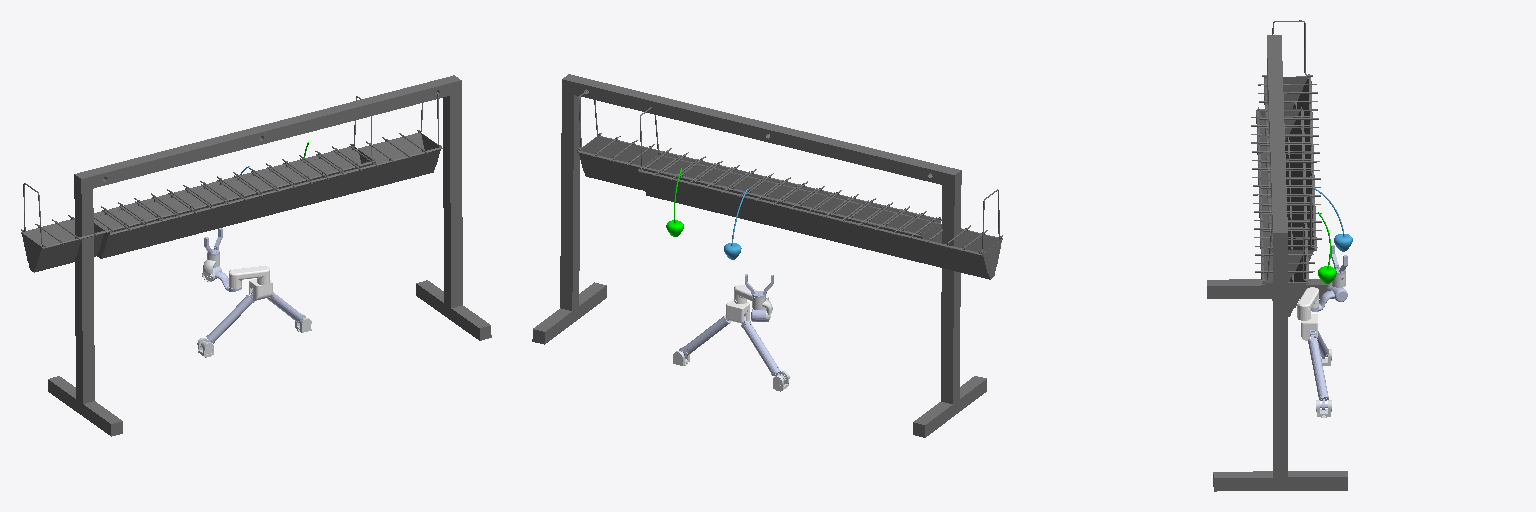
--- Render facts (derived) ---
Views: 3 orthographic renders of the robot side by side, from view 1: azimuth 30°, elevation 25°; view 2: azimuth 150°, elevation 25°; view 3: azimuth 270°, elevation 25°.
Robot: arm12 — 29 links, 28 joints (16 revolute, 6 continuous, 2 prismatic, 4 fixed); root link rotated_base; default pose: every joint at zero.
Links seen in each view (by area): view 1: left_holder, pot, l6, l3; view 2: left_holder, pot, l3, l11; view 3: left_holder, pot, l11, l6.
Boxes of the visible links, <box> form: left_holder: <box>48,75,491,436</box>; pot: <box>21,96,375,272</box>; l6: <box>229,266,269,288</box>; l3: <box>202,290,254,347</box>; left_holder: <box>532,74,986,437</box>; pot: <box>638,107,1002,279</box>; l3: <box>741,315,784,380</box>; l11: <box>681,315,731,355</box>; left_holder: <box>1207,35,1347,491</box>; pot: <box>1258,20,1321,281</box>; l11: <box>1308,330,1328,409</box>; l6: <box>1297,287,1318,320</box>.
Bounding box of the posed robot: 2.67 × 0.731 × 1.44 m (x, y, z).
13 mesh visuals loaded from 18 distinct referenced files (11 binary STL, 2 ASCII STL); not drawn: 5 (reference not matched to a file when rendering).

robot.urdf — arm12:
<?xml version="1.0" ?>
<!-- =================================================================================== -->
<!-- |    This document was autogenerated by xacro from src/arm12/urdf/arm12.urdf.xacro | -->
<!-- |    EDITING THIS FILE BY HAND IS NOT RECOMMENDED                                 | -->
<!-- =================================================================================== -->
<robot name="arm12">
  <!-- <robot
  name="straw"> -->
  <material name="gray">
    <color rgba="0.5 0.5 0.5 1.0"/>
  </material>
  <material name="green">
    <color rgba="0. 1 0. 1.0"/>
  </material>

  <link name="straw_base_link">
    <inertial>
      <origin rpy="0 0 0" xyz="0.72536 -2.6077 -1.278"/>
      <mass value="83.793"/>
      <inertia ixx="49.037" ixy="12.983" ixz="-0.85625" iyy="197.29" iyz="0.10604" izz="153.05"/>
    </inertial>
    <!-- <visual>
      <origin rpy="0 0 0" xyz="0 0 0"/>
      <geometry>
        <mesh filename="package://straw/meshes/straw_base_link.STL" scale="0.75 0.75 0.75"/>
      </geometry>
      <material name="gray"/>
    </visual> -->
    <collision>
      <origin rpy="0 0 0" xyz="0 0 0"/>
      <geometry>
        <mesh filename="package://straw/meshes/straw_base_link.STL"  scale="0.75 0.75 0.75"/>
      </geometry>
    </collision>
  </link>
  <link name="left_holder">
    <inertial>
      <origin rpy="0 0 0" xyz="0.068289 -1.3911 0.41242"/>
      <mass value="90.637"/>
      <inertia ixx="203.28" ixy="-5.2628E-06" ixz="-4.6215E-05" iyy="48.292" iyz="5.4272" izz="157.67"/>
    </inertial>
    <visual>
      <origin rpy="0 0 0" xyz="0 0 0"/>
      <geometry>
        <mesh filename="package://straw/meshes/left_holder.STL"  scale="0.75 0.75 0.75"/>
      </geometry>
      <material name="gray"/>
    </visual>
    <!-- <collision>
      <origin rpy="0 0 0" xyz="0 0 0"/>
      <geometry>
        <mesh filename="package://straw/meshes/left_holder.STL"  scale="0.75 0.75 0.75"/>
      </geometry>
    </collision> -->
  </link>
  <joint name="lh1" type="fixed">
    <!-- <origin rpy="-3.1003 -0.0006971 1.4841" xyz="0 0 0"/> -->
    <origin rpy="-3.1003 -0.0006971 1.4841" xyz="2.1219 -2.7952 -0.90577"/>
    <parent link="straw_base_link"/>
    <child link="left_holder"/>
    <axis xyz="0 0 0"/>
  </joint>
  <link name="pot">
    <inertial>
      <origin rpy="0 0 0" xyz="0.0723 -0.11104 1.4288"/>
      <mass value="7.0989"/>
      <inertia ixx="4.8702" ixy="1.4633E-05" ixz="-1.887E-06" iyy="4.8836" iyz="0.044366" izz="0.12976"/>
    </inertial>
    <visual>
      <origin rpy="0 0 0" xyz="0 0 0.4"/>
      <geometry>
        <mesh filename="package://straw/meshes/pot.STL"  scale="0.75 0.75 0.75"/>
      </geometry>
      <material name="gray"/>
    </visual>
    <collision>
      <origin rpy="0 0 0" xyz="0 0 0"/>
      <geometry>
        <mesh filename="package://straw/meshes/pot.STL"  scale="0.75 0.75 0.75"/>
      </geometry>
    </collision>
  </link>
  <joint name="lf_pot" type="fixed">
    <origin rpy="-1.5306 0 -3.1416" xyz="0.17343 0.013392 0.017884"/>
    <parent link="left_holder"/>
    <child link="pot"/>
    <axis xyz="0 0 0"/>
  </joint>
  <link name="stem1">
    <inertial>
      <origin rpy="0 0 0" xyz="0.31086 0.3 0.00026615"/>
      <mass value="1.1291"/>
      <inertia ixx="0.0022005" ixy="0.00034925" ixz="-8.6306E-07" iyy="0.002305" iyz="3.3465E-06" izz="0.0025724"/>
    </inertial>
    <visual>
      <origin rpy="0 0 0" xyz="0 0 0.5"/>
      <geometry>
        <mesh filename="package://straw/meshes/stem1.STL" scale="0.7 0.7 0.7"/>
      </geometry>
      <material name="green"/>
    </visual>
    <collision>
      <origin rpy="0 0 0" xyz="0 0 0"/>
      <geometry>
        <mesh filename="package://straw/meshes/stem1.STL" scale="0.7 0.7 0.7"/>
      </geometry>
    </collision>
  </link>
  <link name="straw1_intermediate">
    <inertial>
      <mass value="0.001"/>
      <inertia ixx="0.0001" ixy="0" ixz="0" iyy="0.0001" iyz="0" izz="0.0001"/>
    </inertial>
  </link>
  <joint name="stem1_straw1_joint_x" type="revolute">
    <parent link="stem1"/>
    <child link="straw1_intermediate"/>
    <origin rpy="0 0 0" xyz="0.33533 -0.43279 -0.0013777"/>
    <axis xyz="1 0 0"/>
    <limit effort="10" lower="-0.785" upper="0.785" velocity="1"/>
    <dynamics damping="0.5" friction="0.1"/>
  </joint>
  <joint name="stem1_straw1_joint_y" type="revolute">
    <parent link="straw1_intermediate"/>
    <child link="straw1"/>
    <origin rpy="0.25307 -1.4835 0" xyz="0 0 0"/>
    <axis xyz="0 1 0"/>
    <limit effort="10" lower="-0.785" upper="0.785" velocity="1"/>
    <dynamics damping="0.5" friction="0.1"/>
  </joint>
  <link name="straw1">
    <inertial>
      <origin rpy="0 0 0" xyz="0 0.075854 -9.8582E-07"/>
      <mass value="1.0831"/>
      <inertia ixx="0.0017742" ixy="3.2552E-19" ixz="2.1395E-23" iyy="0.0019325" iyz="3.2233E-08" izz="0.0017742"/>
    </inertial>
    <visual>
      <origin rpy="0 0 0" xyz="0 0 0"/>
      <geometry>
        <mesh filename="package://straw/meshes/straw1.STL" scale="1 1 1"/>
      </geometry>
      <material name="transparent_gray">
        <color rgba="0.5 0.5 0.5 0"/> 
      </material>
    </visual>
    <!-- <collision>
      <origin rpy="0 0 0" xyz="0 0 0"/>
      <geometry>
        <mesh filename="package://straw/meshes/straw1.STL" scale="1 1 1"/>
      </geometry>
    </collision> -->
  </link>
  <link name="stem2">
    <inertial>
      <origin rpy="0 0 0" xyz="0.32679 0.5 -0.0023318"/>
      <mass value="1.1291"/>
      <inertia ixx="0.0022449" ixy="0.00031251" ixz="-4.7508E-06" iyy="0.0022602" iyz="6.5609E-06" izz="0.0025727"/>
    </inertial>
    <visual>
      <origin rpy="0 0 0" xyz="0 0 0.3"/>
      <geometry>
        <mesh filename="package://straw/meshes/stem2.STL" scale="0.7 0.7 0.7"/>
      </geometry>
      <material name="green"/>
    </visual>
    <collision>
      <origin rpy="0 0 0" xyz="0 0 0"/>
      <geometry>
        <mesh filename="package://straw/meshes/stem2.STL" scale="0.7 0.7 0.7"/>
      </geometry>
    </collision>
  </link>
  <link name="straw2_intermediate">
    <inertial>
      <mass value="0.001"/>
      <inertia ixx="0.0001" ixy="0" ixz="0" iyy="0.0001" iyz="0" izz="0.0001"/>
    </inertial>
  </link>
  <joint name="stem2_straw2_joint_x" type="revolute">
    <parent link="stem2"/>
    <child link="straw2_intermediate"/>
    <origin rpy="0 0 0" xyz="0.37743 -0.41247 -0.0063167"/>
    <axis xyz="1 0 0"/>
    <limit effort="10" lower="-0.785" upper="0.785" velocity="1"/>
    <dynamics damping="0.5" friction="0.1"/>
  </joint>
  <joint name="stem2_straw2_joint_y" type="revolute">
    <parent link="straw2_intermediate"/>
    <child link="straw2"/>
    <origin rpy="0.62832 -1.4835 0" xyz="0 0 0"/>
    <axis xyz="0 1 0"/>
    <limit effort="10" lower="-0.785" upper="0.785" velocity="1"/>
    <dynamics damping="0.5" friction="0.1"/>
  </joint>
  <link name="straw2">
    <inertial>
      <origin rpy="0 0 0" xyz="0 0.075854 -9.8582E-07"/>
      <mass value="1.0831"/>
      <inertia ixx="0.0017742" ixy="2.5998E-20" ixz="2.2169E-24" iyy="0.0019325" iyz="3.2233E-08" izz="0.0017742"/>
    </inertial>
    <visual>
      <origin rpy="0 0 0" xyz="0 0 0"/>
      <geometry>
        <mesh filename="package://straw/meshes/straw2.STL" scale="1 1 1"/>
      </geometry>
      <material name="transparent_gray">
        <color rgba="0.5 0.5 0.5 0"/> 
      </material>
    </visual>
    <!-- <collision>
      <origin rpy="0 0 0" xyz="0 0 0"/>
      <geometry>
        <mesh filename="package://straw/meshes/straw2.STL" scale="1 1 1"/>
      </geometry>
    </collision> -->
  </link>
  <link name="stem3">
    <inertial>
      <origin rpy="0 0 0" xyz="0.31061 -0.35019 -0.0026474"/>
      <mass value="1.1291"/>
      <inertia ixx="0.0022005" ixy="0.00034925" ixz="-8.6306E-07" iyy="0.002305" iyz="3.3465E-06" izz="0.0025724"/>
    </inertial>
    <visual>
      <origin rpy="0 0 0" xyz="0 0 0"/>
      <geometry>
        <mesh filename="package://straw/meshes/stem3.STL" scale="0.7 0.7 0.7"/>
      </geometry>
      <!-- <material name="gray"/> -->
    </visual>
    <collision>
      <origin rpy="0 0 0" xyz="0 0 0"/>
      <geometry>
        <mesh filename="package://straw/meshes/stem3.STL" scale="0.7 0.7 0.7"/>
      </geometry>
    </collision>
  </link>
  <link name="straw3_intermediate">
    <inertial>
      <mass value="0.001"/>
      <inertia ixx="0.0001" ixy="0" ixz="0" iyy="0.0001" iyz="0" izz="0.0001"/>
    </inertial>
  </link>
  <joint name="stem3_straw3_joint_x" type="revolute">
    <parent link="stem3"/>
    <child link="straw3_intermediate"/>
    <origin rpy="0 0 0" xyz="0.33506 -0.43279 -0.0044151"/>
    <axis xyz="1 0 0"/>
    <limit effort="10" lower="-0.785" upper="0.785" velocity="1"/>
    <dynamics damping="0.5" friction="0.1"/>
  </joint>
  <joint name="stem3_straw3_joint_y" type="revolute">
    <parent link="straw3_intermediate"/>
    <child link="straw3"/>
    <origin rpy="0.25307 -1.4835 0" xyz="0 0 0"/>
    <axis xyz="0 1 0"/>
    <limit effort="10" lower="-0.785" upper="0.785" velocity="1"/>
    <dynamics damping="0.5" friction="0.1"/>
  </joint>
  <link name="straw3">
    <inertial>
      <origin rpy="0 0 0" xyz="-2.2204E-16 0.075854 -9.8582E-07"/>
      <mass value="1.0831"/>
      <inertia ixx="0.0017742" ixy="6.2414E-20" ixz="1.0659E-23" iyy="0.0019325" iyz="3.2233E-08" izz="0.0017742"/>
    </inertial>
    <visual>
      <origin rpy="0 0 0" xyz="0 0 0"/>
      <geometry>
        <mesh filename="package://straw/meshes/straw3.STL" scale="1 1 1" />
      </geometry>
      <material name="transparent_gray">
        <color rgba="0.5 0.5 0.5 0"/> 
      </material>

    </visual>
    <!-- <collision>
      <origin rpy="0 0 0" xyz="0 0 0"/>
      <geometry>
        <mesh filename="package://straw/meshes/straw3.STL" scale="0.75 0.75 0.75"/>
      </geometry>
    </collision> -->
  </link>
  <!-- <link name="right_holder">
    <inertial>
      <origin rpy="0 0 0" xyz="0.16998 1.3378 0.16679"/>
      <mass value="7.0141"/>
      <inertia ixx="4.8686" ixy="1.7169E-06" ixz="-4.633E-05" iyy="0.12782" iyz="-0.073617" izz="4.8819"/>
    </inertial>
    <visual>
      <origin rpy="0 0 0" xyz="0 0 0"/>
      <geometry>
        <mesh filename="package://straw/meshes/right_holder.STL"/>
      </geometry>
      <material name="gray"/>
    </visual>
    <collision>
      <origin rpy="0 0 0" xyz="0 0 0"/>
      <geometry>
        <mesh filename="package://straw/meshes/right_holder.STL"/>
      </geometry>
    </collision>
  </link> -->
  <!-- <joint name="rh1" type="fixed">
    <origin rpy="3.1178 -0.0006971 1.4841" xyz="-0.64819 -2.6236 -0.90294"/>
    <parent link="base_link"/>
    <child link="right_holder"/>
    <axis xyz="0 0 0"/>
  </joint> -->
  <link name="stem1_intermediate1">
    <inertial>
      <mass value="0.001"/>
      <inertia ixx="0.0001" ixy="0" ixz="0" iyy="0.0001" iyz="0" izz="0.0001"/>
    </inertial>
  </link>
  <link name="stem1_intermediate2">
    <inertial>
      <mass value="0.001"/>
      <inertia ixx="0.0001" ixy="0" ixz="0" iyy="0.0001" iyz="0" izz="0.0001"/>
    </inertial>
  </link>
  <joint name="pot_stem1_x" type="revolute">
    <parent link="pot"/>
    <child link="stem1_intermediate1"/>
    <origin rpy="0 0 0" xyz="-0.069846 0.034051 0.92078"/>
    <axis xyz="1 0 0"/>
    <limit effort="10" lower="-0.523" upper="0.523" velocity="1"/>
    <dynamics damping="0.5" friction="0.1"/>
  </joint>
  <joint name="pot_stem1_y" type="revolute">
    <parent link="stem1_intermediate1"/>
    <child link="stem1_intermediate2"/>
    <origin rpy="0 0 0" xyz="0 0 0"/>
    <axis xyz="0 1 0"/>
    <limit effort="10" lower="-0.523" upper="0.523" velocity="1"/>
    <dynamics damping="0.5" friction="0.1"/>
  </joint>
  <joint name="pot_stem1_z" type="revolute">
    <parent link="stem1_intermediate2"/>
    <child link="stem1"/>
    <origin rpy="3.1189 0.0035789 -2.8888" xyz="0 0 0"/>
    <axis xyz="0 0 1"/>
    <limit effort="10" lower="-0.523" upper="0.523" velocity="1"/>
    <dynamics damping="0.5" friction="0.1"/>
  </joint>
  <link name="stem2_intermediate1">
    <inertial>
      <mass value="0.001"/>
      <inertia ixx="0.0001" ixy="0" ixz="0" iyy="0.0001" iyz="0" izz="0.0001"/>
    </inertial>
  </link>
  <link name="stem2_intermediate2">
    <inertial>
      <mass value="0.001"/>
      <inertia ixx="0.0001" ixy="0" ixz="0" iyy="0.0001" iyz="0" izz="0.0001"/>
    </inertial>
  </link>
  <joint name="pot_stem2_x" type="revolute">
    <parent link="pot"/>
    <child link="stem2_intermediate1"/>
    <origin rpy="0 0 0" xyz="-0.071011 0.062145 0.99538"/>
    <axis xyz="1 0 0"/>
    <limit effort="10" lower="-0.523" upper="0.523" velocity="1"/>
    <dynamics damping="0.5" friction="0.1"/>
  </joint>
  <joint name="pot_stem2_y" type="revolute">
    <parent link="stem2_intermediate1"/>
    <child link="stem2_intermediate2"/>
    <origin rpy="0 0 0" xyz="0 0 0"/>
    <axis xyz="0 1 0"/>
    <limit effort="10" lower="-0.523" upper="0.523" velocity="1"/>
    <dynamics damping="0.5" friction="0.1"/>
  </joint>
  <joint name="pot_stem2_z" type="revolute">
    <parent link="stem2_intermediate2"/>
    <child link="stem2"/>
    <origin rpy="3.0898 0.017653 -2.5152" xyz="0 0 0"/>
    <axis xyz="0 0 1"/>
    <limit effort="10" lower="-0.523" upper="0.523" velocity="1"/>
    <dynamics damping="0.5" friction="0.1"/>
  </joint>
  <link name="stem3_intermediate1">
    <inertial>
      <mass value="0.001"/>
      <inertia ixx="0.0001" ixy="0" ixz="0" iyy="0.0001" iyz="0" izz="0.0001"/>
    </inertial>
  </link>
  <link name="stem3_intermediate2">
    <inertial>
      <mass value="0.001"/>
      <inertia ixx="0.0001" ixy="0" ixz="0" iyy="0.0001" iyz="0" izz="0.0001"/>
    </inertial>
  </link>
  <joint name="pot_stem3_x" type="revolute">
    <parent link="pot"/>
    <child link="stem3_intermediate1"/>
    <origin rpy="0 0 0" xyz="-0.05556 0.033891 1.0852"/>
    <axis xyz="1 0 0"/>
    <limit effort="10" lower="-0.523" upper="0.523" velocity="1"/>
    <dynamics damping="0.5" friction="0.1"/>
  </joint>
  <joint name="pot_stem3_y" type="revolute">
    <parent link="stem3_intermediate1"/>
    <child link="stem3_intermediate2"/>
    <origin rpy="0 0 0" xyz="0 0 0"/>
    <axis xyz="0 1 0"/>
    <limit effort="10" lower="-0.523" upper="0.523" velocity="1"/>
    <dynamics damping="0.5" friction="0.1"/>
  </joint>
  <joint name="pot_stem3_z" type="revolute">
    <parent link="stem3_intermediate2"/>
    <child link="stem3"/>
    <origin rpy="3.1189 0.0035789 -2.8888" xyz="0 0 0"/>
    <axis xyz="0 0 1"/>
    <limit effort="10" lower="-0.523" upper="0.523" velocity="1"/>
    <dynamics damping="0.5" friction="0.1"/>
  </joint>
  <link name="rotated_base"/>
  <joint name="rot_to_base" type="fixed">
    <parent link="rotated_base"/>
    <child link="base_link"/>
    <origin rpy="0 3.14 0" xyz="0 0 0"/>
  </joint>
  <joint name="attach_straw" type="fixed">
    <parent link="rotated_base"/>
    <child link="straw_base_link"/>
    <origin rpy="0 0 0.1" xyz="-1.3 2.3 2"/>
  </joint>
  <link name="base_link">
    <inertial>
      <origin rpy="0 0 0" xyz="-0.114741653388133 -0.00394836028883594 -0.0536105920933669"/>
      <mass value="2.63443753992699"/>
      <inertia ixx="0.00189567328668365" ixy="7.29873865389891E-06" ixz="0.000140090900098037" iyy="0.158992383742472" iyz="1.36209227842431E-06" izz="0.158257846821755"/>
    </inertial>
    <visual>
      <origin rpy="0 0 0" xyz="0 0 0"/>
      <geometry>
        <mesh filename="package://arm12/meshes/base_link.STL"/>
      </geometry>
      <material name="">
        <color rgba="0.792156862745098 0.819607843137255 0.933333333333333 1"/>
      </material>
    </visual>
    <collision>
      <origin rpy="0 0 0" xyz="0 0 0"/>
      <geometry>
        <mesh filename="package://arm12/meshes/base_link.STL"/>
      </geometry>
    </collision>
  </link>
  <link name="l1">
    <inertial>
      <origin rpy="0 0 0" xyz="0.403597483420043 -0.0414638574022828 0.00700359932104074"/>
      <mass value="0.381600228345592"/>
      <inertia ixx="0.000152419359459052" ixy="-1.16717541525886E-07" ixz="-4.78639401455686E-07" iyy="0.00015874224871389" iyz="3.26007402233397E-07" izz="0.000167838112577603"/>
    </inertial>
    <visual>
      <origin rpy="0 0 0" xyz="0 0 0"/>
      <geometry>
        <mesh filename="package://arm12/meshes/l1.STL"/>
      </geometry>
      <material name="">
        <color rgba="0.898039215686275 0.917647058823529 0.929411764705882 1"/>
      </material>
    </visual>
    <collision>
      <origin rpy="0 0 0" xyz="0 0 0"/>
      <geometry>
        <mesh filename="package://arm12/meshes/l1.STL"/>
      </geometry>
    </collision>
  </link>
  <joint name="j1" type="prismatic">
    <origin rpy="1.5708 0 0" xyz="-0.79073 0.0075 -0.026676"/>
    <parent link="base_link"/>
    <child link="l1"/>
    <axis xyz="1 0.00024256 0"/>
    <limit effort="1000" lower="-0.37" upper="0.35" velocity="1000"/>
  </joint>
  <link name="l11">
    <inertial>
      <origin rpy="0 0 0" xyz="0.109124708134365 -0.106742142823085 0.0291269836365173"/>
      <mass value="0.308192429361636"/>
      <inertia ixx="0.00036660835632017" ixy="0.000236532188858594" ixz="-5.91891737788076E-05" iyy="0.000377052003364126" iyz="5.79126892712075E-05" izz="0.000595833629485193"/>
    </inertial>
    <visual>
      <origin rpy="0 0 0" xyz="0 0 0"/>
      <geometry>
        <mesh filename="package://arm12/meshes/l11.STL"/>
      </geometry>
      <material name="">
        <color rgba="0.792156862745098 0.819607843137255 0.933333333333333 1"/>
      </material>
    </visual>
    <collision>
      <origin rpy="0 0 0" xyz="0 0 0"/>
      <geometry>
        <mesh filename="package://arm12/meshes/l11.STL"/>
      </geometry>
    </collision>
  </link>
  <joint name="j11" type="continuous">
    <origin rpy="0 0 0" xyz="0.403574468337888 -0.0486058728976355 -0.000248553231492891"/>
    <parent link="l1"/>
    <child link="l11"/>
    <axis xyz="0 0 -1"/>
  </joint>
  <link name="l2">
    <inertial>
      <origin rpy="0 0 0" xyz="1.0157003601035 -0.0384463563381593 0.00765610841163893"/>
      <mass value="0.51688405008029"/>
      <inertia ixx="0.000289252991255811" ixy="6.16500231917276E-07" ixz="-1.38368241480024E-06" iyy="0.000291829291446418" iyz="-1.10552388292668E-06" izz="0.00026788505040365"/>
    </inertial>
    <visual>
      <origin rpy="0 0 0" xyz="0 0 0"/>
      <geometry>
        <mesh filename="package://arm12/meshes/l2.STL"/>
      </geometry>
      <material name="">
        <color rgba="0.898039215686275 0.917647058823529 0.929411764705882 1"/>
      </material>
    </visual>
    <collision>
      <origin rpy="0 0 0" xyz="0 0 0"/>
      <geometry>
        <mesh filename="package://arm12/meshes/l2.STL"/>
      </geometry>
    </collision>
  </link>
  <joint name="j2" type="prismatic">
    <origin rpy="1.5708 0 0" xyz="-0.79073 0.0075 -0.026676"/>
    <parent link="base_link"/>
    <child link="l2"/>
    <axis xyz="1 0.00024256 0"/>
    <limit effort="1000" lower="-0.26" upper="0.32" velocity="1000"/>
  </joint>
  <link name="l3">
    <inertial>
      <origin rpy="0 0 0" xyz="-0.10814121670337 -0.105773126393835 0.0288760940795127"/>
      <mass value="0.306128922940993"/>
      <inertia ixx="0.000367090541907876" ixy="-0.000237220677320172" ixz="5.90721357269542E-05" iyy="0.000377593275938236" iyz="5.77716342409563E-05" izz="0.000596928132744383"/>
    </inertial>
    <visual>
      <origin rpy="0 0 0" xyz="0 0 0"/>
      <geometry>
        <mesh filename="package://arm12/meshes/l3.STL"/>
      </geometry>
      <material name="">
        <color rgba="0.792156862745098 0.819607843137255 0.933333333333333 1"/>
      </material>
    </visual>
    <collision>
      <origin rpy="0 0 0" xyz="0 0 0"/>
      <geometry>
        <mesh filename="package://arm12/meshes/l3.STL"/>
      </geometry>
    </collision>
  </link>
  <joint name="j3" type="revolute">
    <origin rpy="0 0 0" xyz="1.0158 -0.048606 -0.00024711"/>
    <parent link="l2"/>
    <child link="l3"/>
    <axis xyz="0 0 -1"/>
    <limit effort="1000" lower="-0.65" upper="0.7" velocity="1000"/>
  </joint>
  <link name="l4">
    <inertial>
      <origin rpy="0 0 0" xyz="-0.0247644704780808 -0.0233597492007901 0.033905617015353"/>
      <mass value="0.247877954974344"/>
      <inertia ixx="0.000275512262276771" ixy="-4.01235172214852E-08" ixz="5.68470398676511E-07" iyy="0.000303231827207215" iyz="4.68448608364464E-05" izz="0.000495903390975614"/>
    </inertial>
    <visual>
      <origin rpy="0 0 0" xyz="0 0 0"/>
      <geometry>
        <mesh filename="package://arm12/meshes/l4.STL"/>
      </geometry>
      <material name="">
        <color rgba="1 1 1 1"/>
      </material>
    </visual>
    <collision>
      <origin rpy="0 0 0" xyz="0 0 0"/>
      <geometry>
        <mesh filename="package://arm12/meshes/l4.STL"/>
      </geometry>
    </collision>
  </link>
  <joint name="j4" type="continuous">
    <origin rpy="0 0 0" xyz="-0.2814 -0.27508 0.049459"/>
    <parent link="l3"/>
    <child link="l4"/>
    <axis xyz="0 0 1"/>
    <limit effort="1000" lower="1000" upper="1000" velocity="1000"/>
    <mimic joint="j3" multiplier="1" offset="0"/>
  </joint>
  <link name="l6">
    <inertial>
      <origin rpy="0 0 0" xyz="0.0835083121801821 -0.0131318490598266 -0.022315022598535"/>
      <mass value="0.492993890644909"/>
      <inertia ixx="0.000390471608455916" ixy="2.48268434817755E-06" ixz="0.000302295718302552" iyy="0.00155512945705818" iyz="-1.20122073303538E-06" izz="0.00147705952278512"/>
    </inertial>
    <visual>
      <origin rpy="0 0 0" xyz="0 0 0"/>
      <geometry>
        <mesh filename="package://arm12/meshes/l6.STL"/>
      </geometry>
      <material name="">
        <color rgba="1 1 1 1"/>
      </material>
    </visual>
    <collision>
      <origin rpy="0 0 0" xyz="0 0 0"/>
      <geometry>
        <mesh filename="package://arm12/meshes/l6.STL"/>
      </geometry>
    </collision>
  </link>
  <joint name="j6" type="continuous">
    <origin rpy="0 0 0" xyz="-0.031134 -0.097956 0.059414"/>
    <parent link="l4"/>
    <child link="l6"/>
    <axis xyz="0 1 0"/>
    <limit effort="1000" lower="1000" upper="1000" velocity="1000"/>
  </joint>
  <link name="l7">
    <inertial>
      <origin rpy="0 0 0" xyz="0.0315318501806746 0.00583507478957768 -0.0817967507514115"/>
      <mass value="0.200740625287396"/>
      <inertia ixx="0.000563180696639149" ixy="8.48547014814516E-05" ixz="0.000202999903698582" iyy="0.000610313185565538" iyz="-0.000156946216691284" izz="0.000315973335029523"/>
    </inertial>
    <visual>
      <origin rpy="0 0 0" xyz="0 0 0"/>
      <geometry>
        <mesh filename="package://arm12/meshes/l7.STL"/>
      </geometry>
      <material name="">
        <color rgba="0.792156862745098 0.819607843137255 0.933333333333333 1"/>
      </material>
    </visual>
    <collision>
      <origin rpy="0 0 0" xyz="0 0 0"/>
      <geometry>
        <mesh filename="package://arm12/meshes/l7.STL"/>
      </geometry>
    </collision>
  </link>
  <joint name="j7" type="continuous">
    <origin rpy="0 0 0" xyz="0.16802 0 -0.043732"/>
    <parent link="l6"/>
    <child link="l7"/>
    <axis xyz="0 1 0"/>
    <limit effort="1000" lower="1000" upper="1000" velocity="1000"/>
  </joint>
  <link name="l8">
    <inertial>
      <origin rpy="0 0 0" xyz="-0.00639785855543679 -0.105467190035519 0.0332454721635889"/>
      <mass value="0.232745208884819"/>
      <inertia ixx="0.000344329566709667" ixy="-0.000100351533357395" ixz="-3.41790292256826E-06" iyy="0.000220748774570507" iyz="9.99580236012298E-06" izz="0.000406188026813068"/>
    </inertial>
    <visual>
      <origin rpy="0 1.57 0" xyz="-0.042  -0.274 0.085"/>
      <geometry>
        <mesh filename="package://arm12/meshes/l8.STL"/>
      </geometry>
      <material name="">
        <color rgba="0.898039215686275 0.917647058823529 0.929411764705882 1"/>
      </material>
    </visual>
    <collision>
      <origin rpy="0 1.57 0" xyz="-0.042  -0.274 0.085"/>
      <geometry>
        <mesh filename="package://arm12/meshes/l8.STL"/>
      </geometry>
    </collision>
  </link>
  <joint name="j8" type="continuous">
    <origin rpy="0.48 -0.47 0" xyz="0.057439 -0.0094087 -0.13"/>
    <parent link="l7"/>
    <child link="l8"/>
    <axis xyz="-1 0 0"/>
    <limit effort="1000" lower="1000" upper="1000" velocity="1000"/>
  </joint>
  <link name="tool0">
    <inertial>
      <origin rpy="0 0 0" xyz="0.0835083121801821 -0.0131318490598266 -0.022315022598535"/>
      <mass value="0.492993890644909"/>
      <inertia ixx="0.000390471608455916" ixy="2.48268434817755E-06" ixz="0.000302295718302552" iyy="0.00155512945705818" iyz="-1.20122073303538E-06" izz="0.00147705952278512"/>
    </inertial>
    <visual>
      <origin rpy="1.57 0 0" xyz="-0.0773 0.042 -0.036"/>
      <geometry>
        <mesh filename="package://arm12/meshes/gripper.STL"/>
      </geometry>
      <material name="">
        <color rgba="0.792156862745098 0.819607843137255 0.933333333333333 1"/>
      </material>
    </visual>
    <collision>
      <origin rpy="0 0 0 " xyz="0 0 0"/>
      <geometry>
        <mesh filename="package://arm12/meshes/gripper.STL"/>
      </geometry>
    </collision>
  </link>
  <joint name="tool0_joint" type="continuous">
    <axis xyz="0 -1 0"/>
    <limit effort="1000" lower="1000" upper="1000" velocity="1000"/>
    <parent link="l8"/>
    <child link="tool0"/>
    <origin rpy="-0.48 0 0" xyz="-0.007 -0.09 0.047"/>
  </joint>
</robot>
<!-- <origin xyz="-0.025 -0.2 0.05" rpy="-0.35 -0.50 0"/> -->
